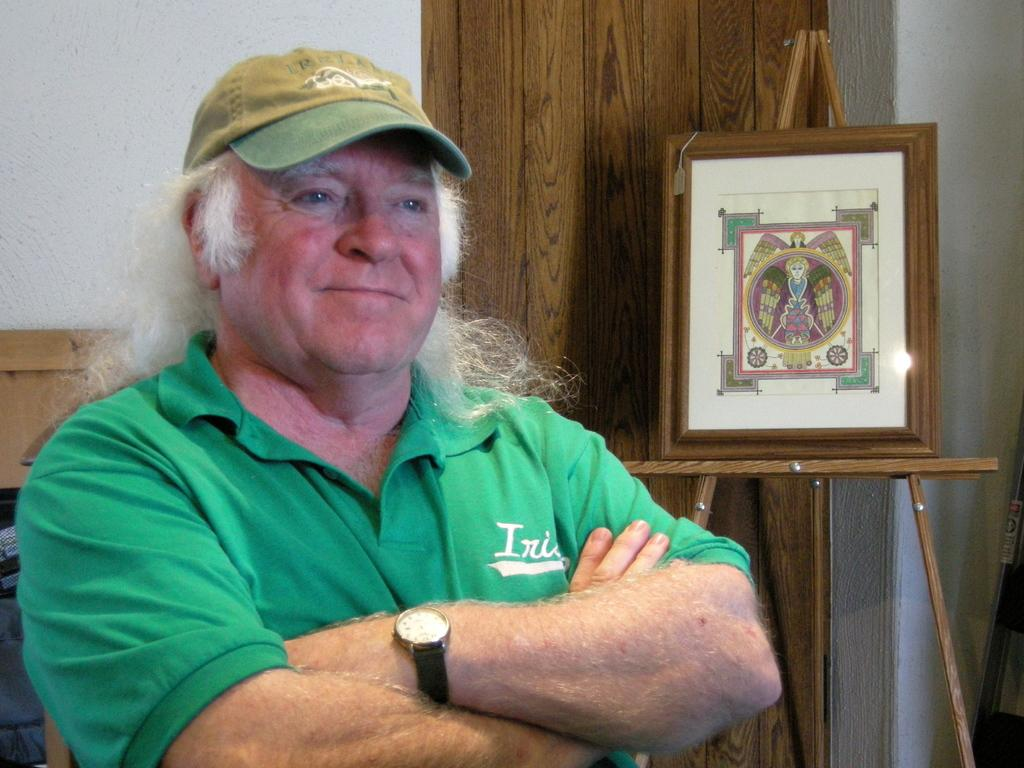Hat: (169, 47, 474, 204)
